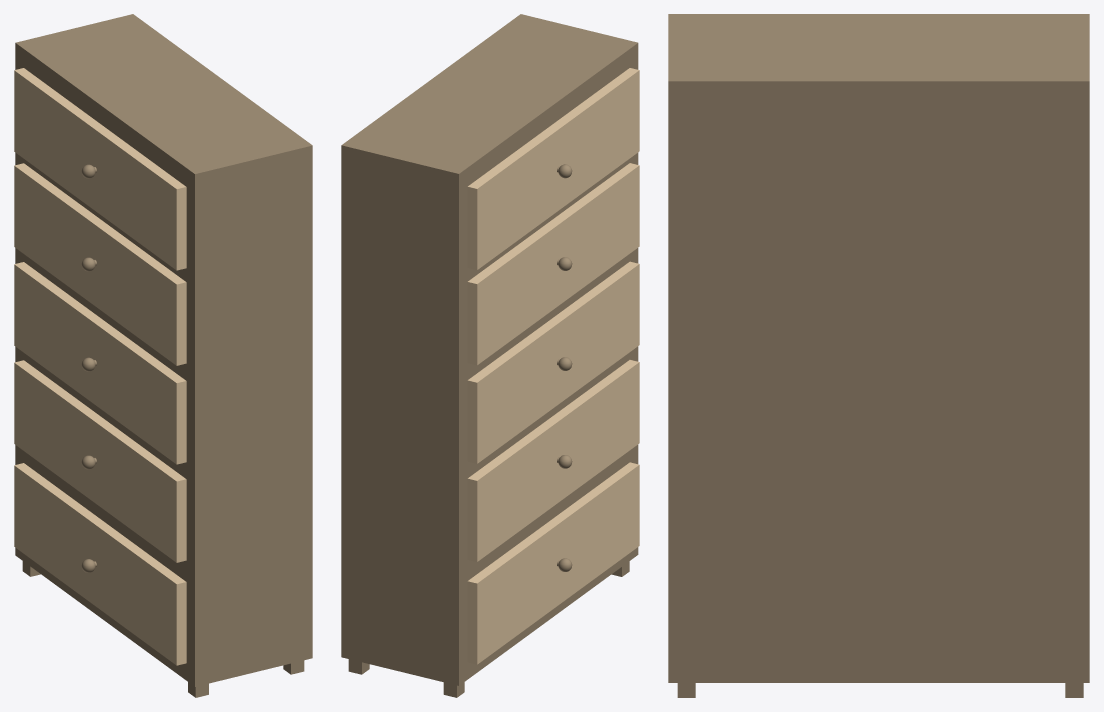
Rendered from Dresser.fbx.
The picture shows the model from 3 angles, left to right: view 1: azimuth 30°, elevation 25°; view 2: azimuth 150°, elevation 25°; view 3: azimuth 270°, elevation 25°; orthographic projection. The views are drawn at different scales.
Parts seen in each view (by area): view 1: pCube1, pCube6, pCube8, pCube10, pCube7, pCube9; view 2: pCube1, pCube8, pCube6, pCube9, pCube7, pCube10; view 3: pCube1.
Part boxes in pixels (box(x1,y1,x2,y2)): pCube1: box(15, 14, 312, 686); pCube6: box(14, 463, 186, 665); pCube8: box(14, 262, 186, 464); pCube10: box(14, 68, 186, 270); pCube7: box(14, 360, 186, 562); pCube9: box(14, 163, 186, 365); pCube1: box(341, 14, 638, 685); pCube8: box(467, 261, 639, 463); pCube6: box(467, 462, 639, 664); pCube9: box(467, 163, 639, 365); pCube7: box(467, 360, 639, 561); pCube10: box(467, 68, 639, 269); pCube1: box(668, 14, 1089, 682).
Bounding box in the file's own units: 14.14 × 50.77 × 31.32.
